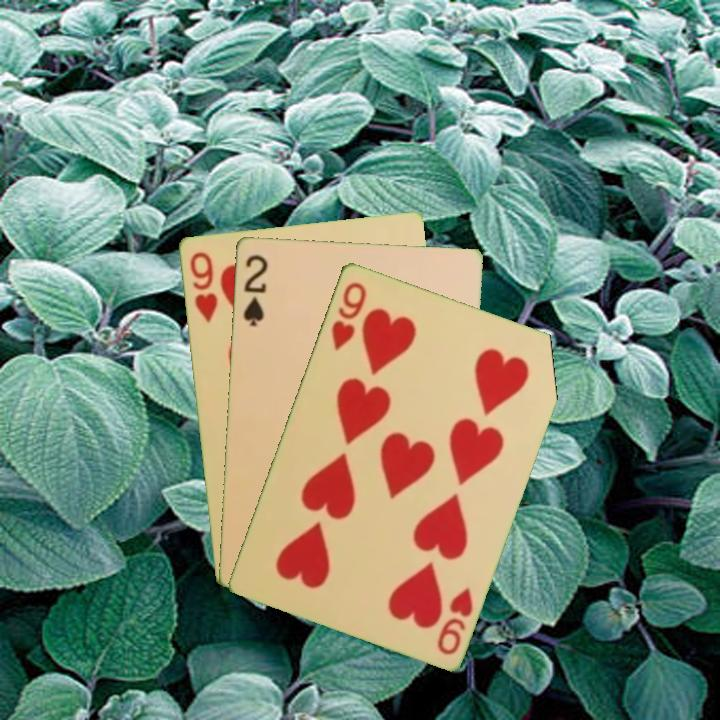2s: (240, 251, 271, 329)
9h: (433, 582, 476, 658), (327, 278, 369, 353), (186, 248, 220, 326)
